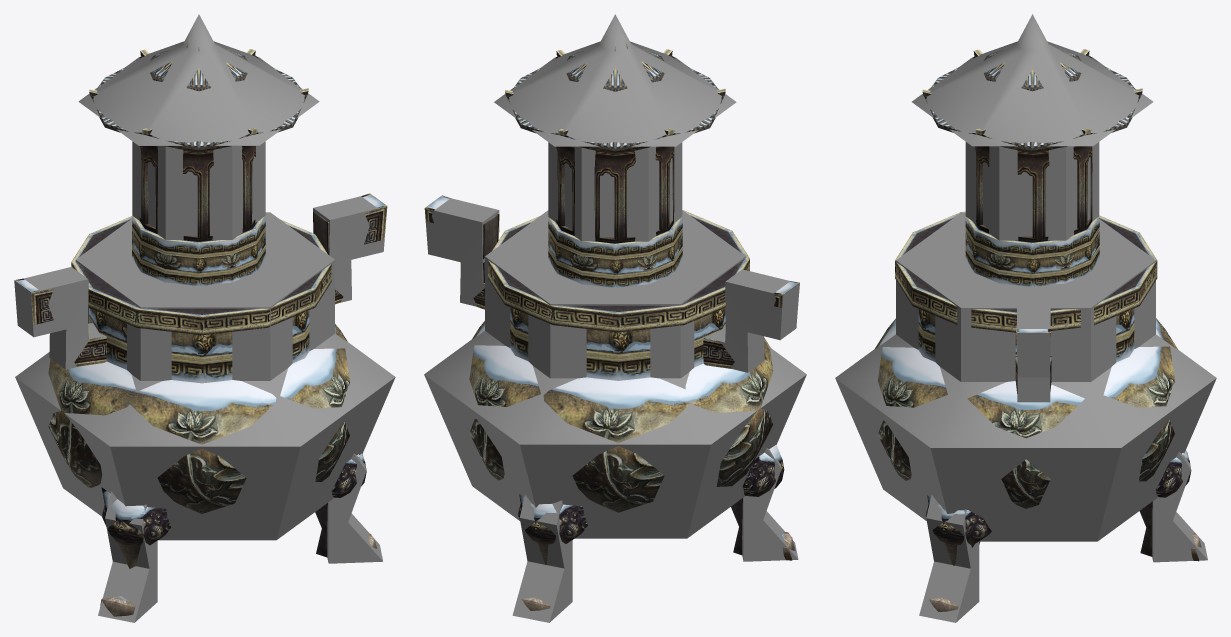
File: Scene_Object_TianShan_XueXiangLu_1.FBX
The picture shows the model from 3 angles, left to right: view 1: azimuth 30°, elevation 25°; view 2: azimuth 150°, elevation 25°; view 3: azimuth 270°, elevation 25°; orthographic projection.
Parts seen in each view (by area): view 1: Scene_Object_TianShan_XueXiangLu_1_Xzm, Scene_Object_TianShan_XueXiangLu_1; view 2: Scene_Object_TianShan_XueXiangLu_1_Xzm, Scene_Object_TianShan_XueXiangLu_1; view 3: Scene_Object_TianShan_XueXiangLu_1_Xzm, Scene_Object_TianShan_XueXiangLu_1.
Boxes of the visible parts, box(x1,y1,x2,y2) form: Scene_Object_TianShan_XueXiangLu_1_Xzm: box(14, 14, 395, 622); Scene_Object_TianShan_XueXiangLu_1: box(14, 38, 387, 616); Scene_Object_TianShan_XueXiangLu_1_Xzm: box(424, 14, 806, 622); Scene_Object_TianShan_XueXiangLu_1: box(424, 38, 799, 610); Scene_Object_TianShan_XueXiangLu_1_Xzm: box(835, 14, 1216, 622); Scene_Object_TianShan_XueXiangLu_1: box(874, 49, 1201, 611).
Bounding box in the file's own units: 330 × 475 × 305.
